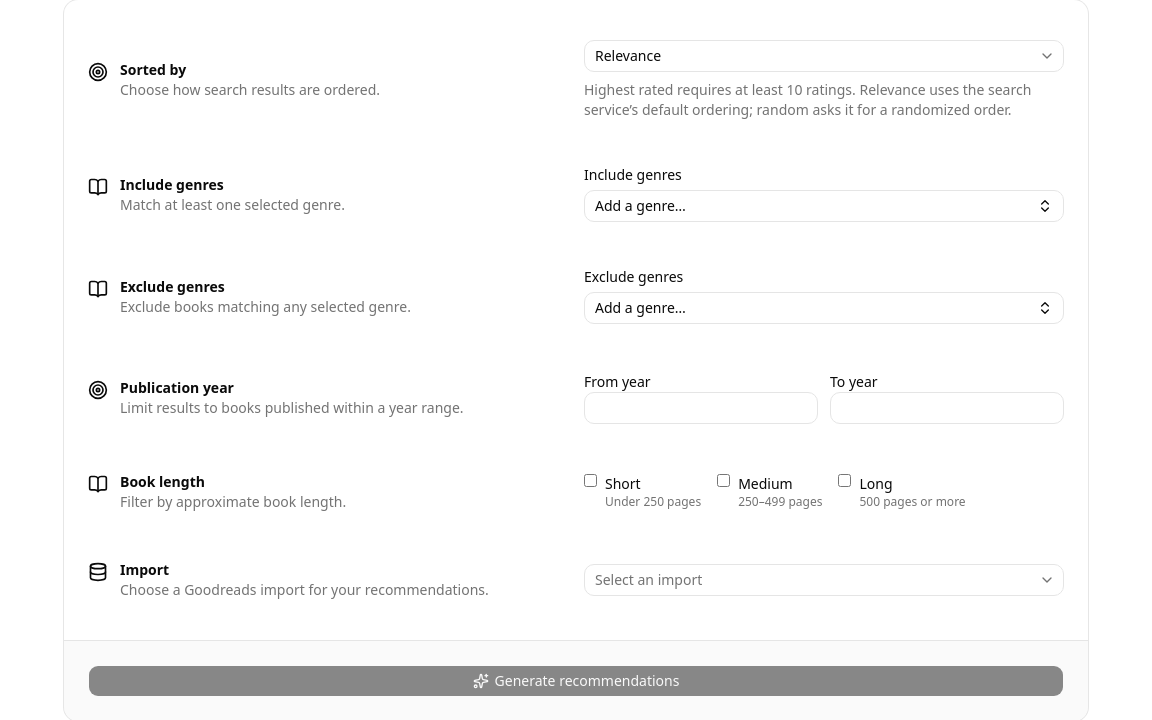
Recommendation controls › requires an import, submits the selected ID, and prevents overlapping requests
The width and height of the screenshot is (1152, 720).
Check: the button "Generate recommendations" is disabled, box [88,665,1064,697]
Click the dropdown labelled "import".
click(649, 580)  # box [584,564,1064,596]
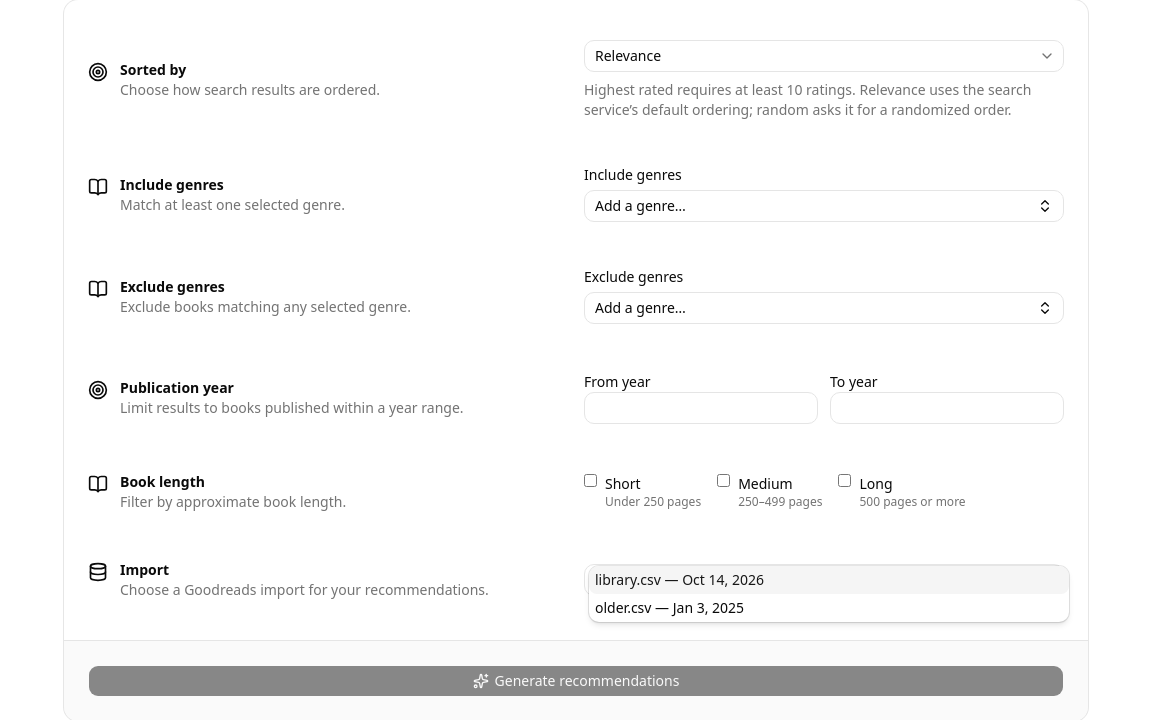
Click the option "library.csv — Oct 14, 2026".
click(628, 580)  # box [589,566,1069,594]
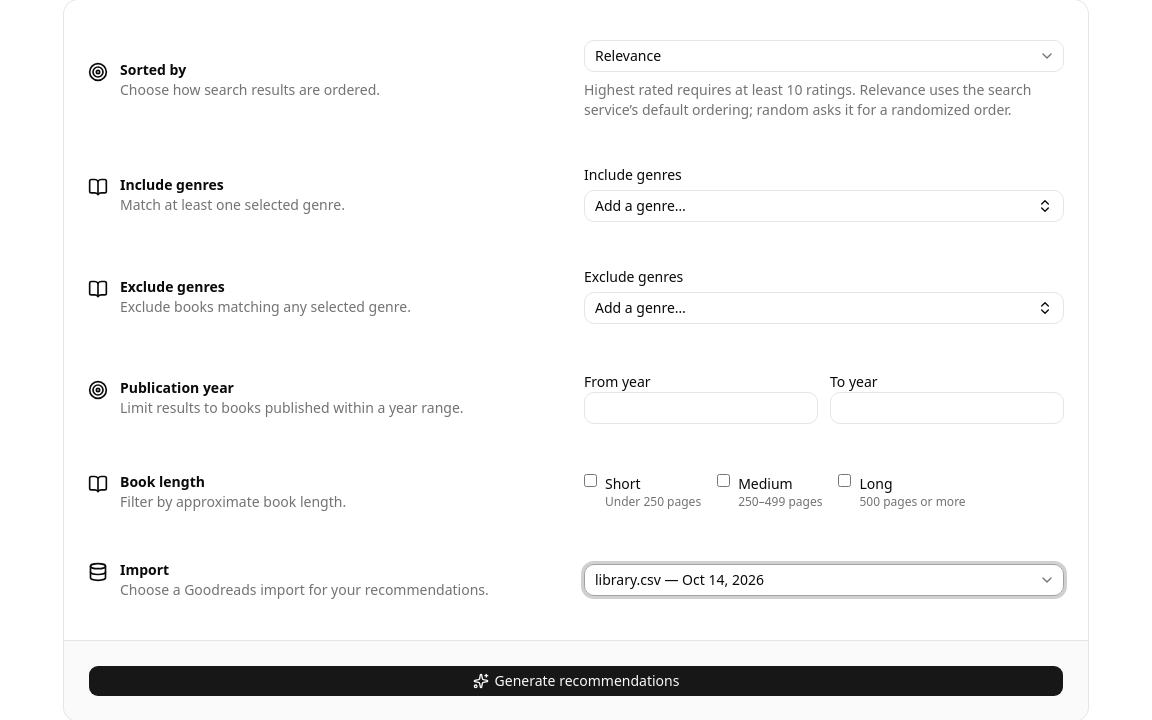
Check: the button "Generate recommendations" is enabled
Click the button "Generate recommendations".
click(576, 681)  # box [88,665,1064,697]
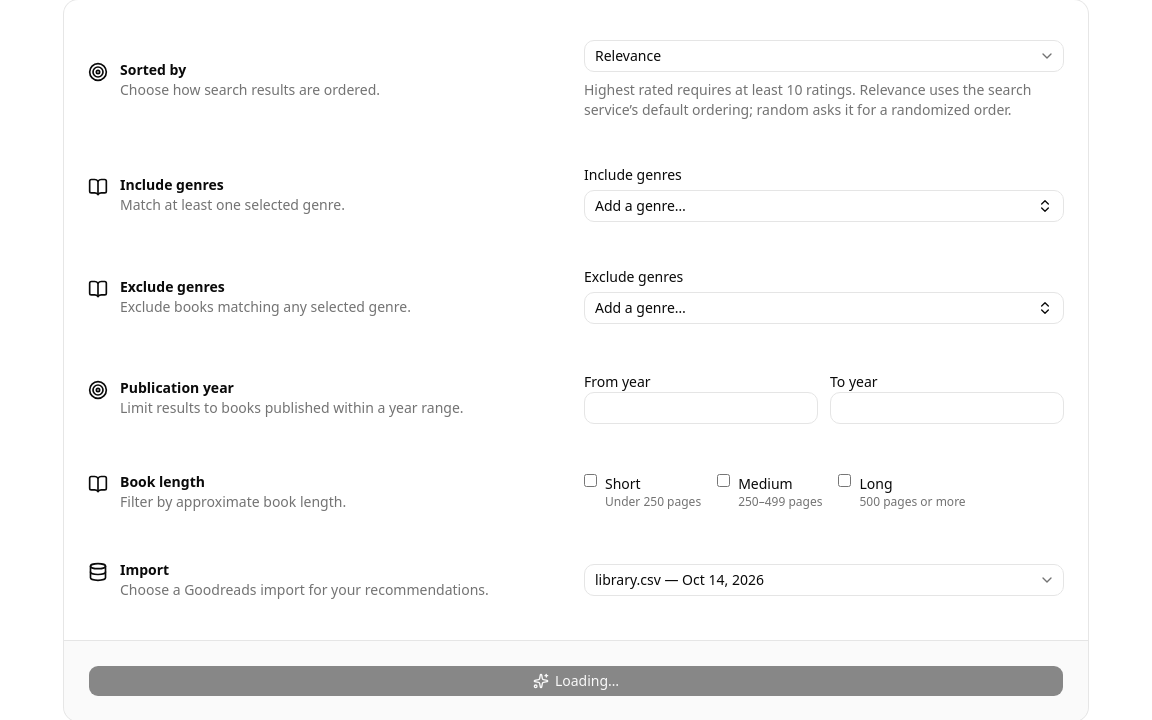
Check: the button named "Generate recommendations" is disabled
Click the button named "Generate recommendations".
click(576, 681)  # box [88,665,1064,697]
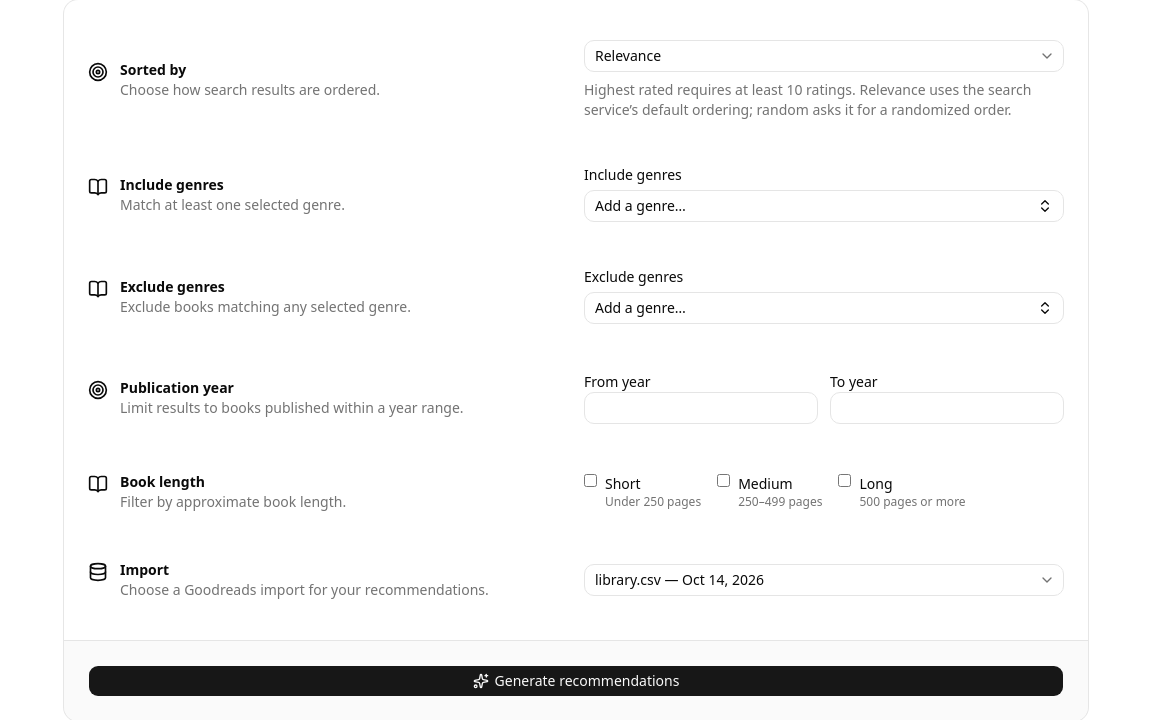
Check: the button "Generate recommendations" is shown, box [88,665,1064,697]
